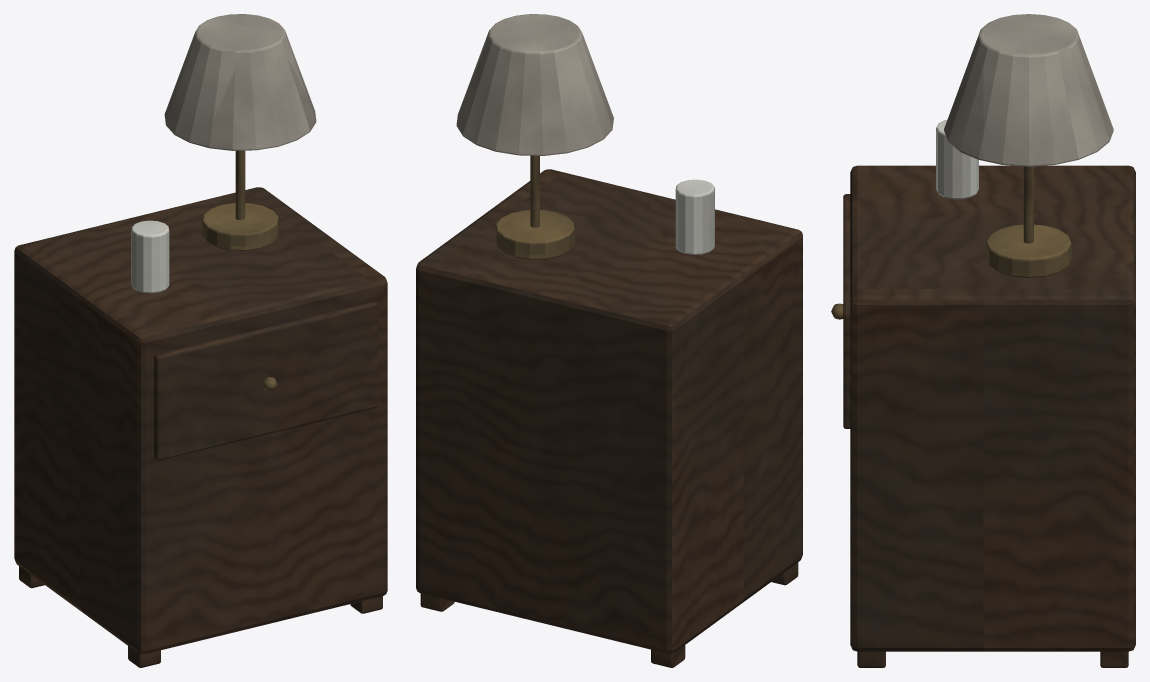
The model's file is B06_nightstand_v1.glb.
The picture shows the model from 3 angles, left to right: view 1: azimuth 30°, elevation 25°; view 2: azimuth 150°, elevation 25°; view 3: azimuth 270°, elevation 25°; orthographic projection. The views are drawn at different scales.
Visible parts, largest first — view 1: B06_nightstand_v1; view 2: B06_nightstand_v1; view 3: B06_nightstand_v1.
Part boxes in pixels (left/top/right/bottom): B06_nightstand_v1: left=14, top=14, right=387, bottom=667; B06_nightstand_v1: left=416, top=14, right=802, bottom=667; B06_nightstand_v1: left=831, top=14, right=1135, bottom=667.
Size of the model in its own units: 0.2432 by 0.5 by 0.2308.
4 materials, 4 textured.
